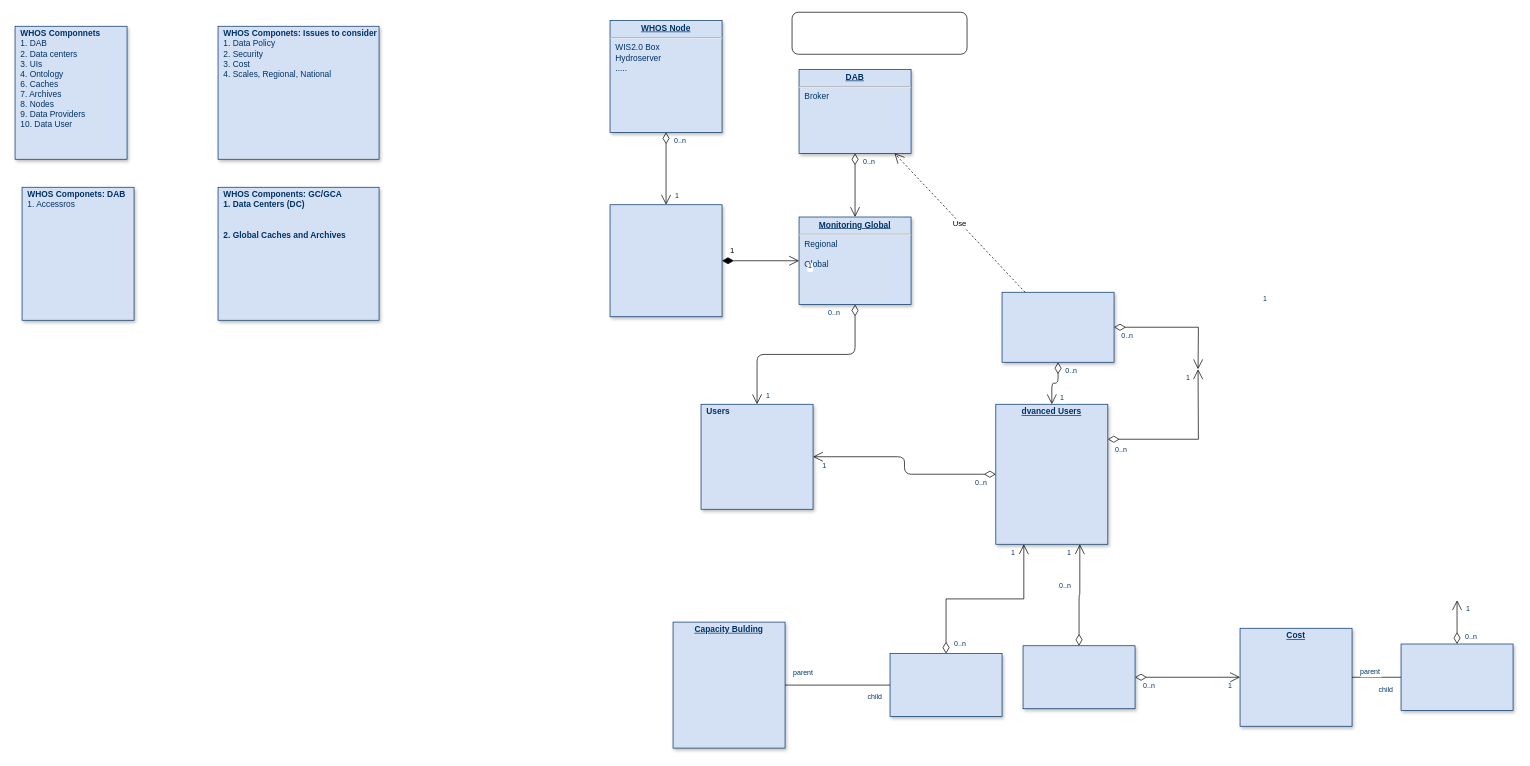
Some shapes in this 1530 by 766 pixel diagram are drawn without their labels. The centre of each missing label's shape, as x and y in pixels:
"Data Center Regional Global" goes at point (666, 261).
"Quality" goes at point (1079, 678).
"Reporting" goes at point (1457, 677).
"Security" goes at point (946, 685).
"User Interface" goes at point (1058, 328).
"WHOS Architecture" goes at point (879, 33).
